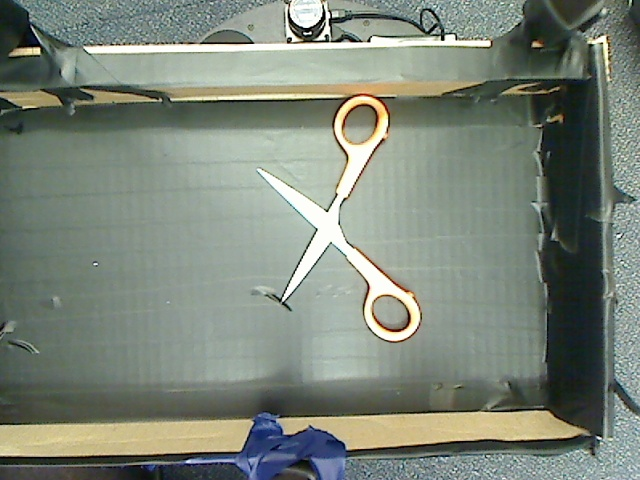scissors: (252, 91, 428, 356)
